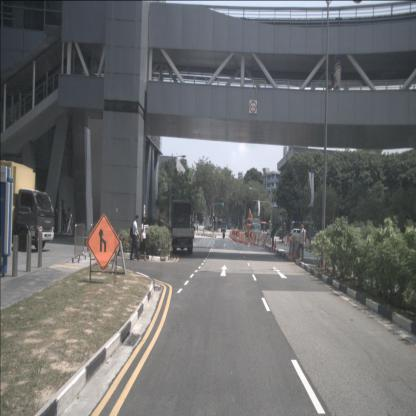barrier: (288, 239, 298, 262), (286, 236, 291, 245), (255, 234, 259, 245), (291, 236, 295, 246), (259, 234, 262, 247), (257, 233, 260, 246), (254, 233, 257, 245), (284, 235, 288, 244), (289, 236, 292, 246)
cone: (274, 238, 277, 250), (253, 238, 256, 247), (262, 238, 264, 250), (250, 239, 253, 246)
